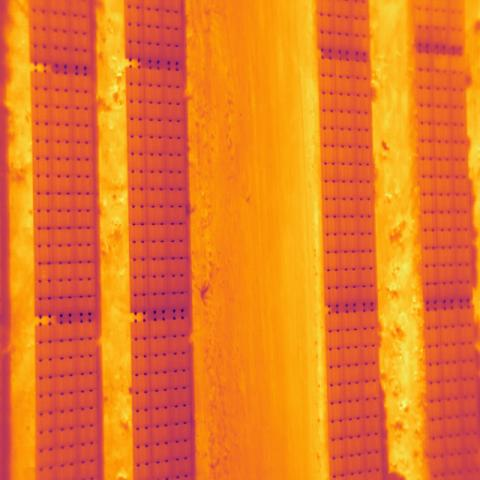fault: (433, 54, 451, 73)
